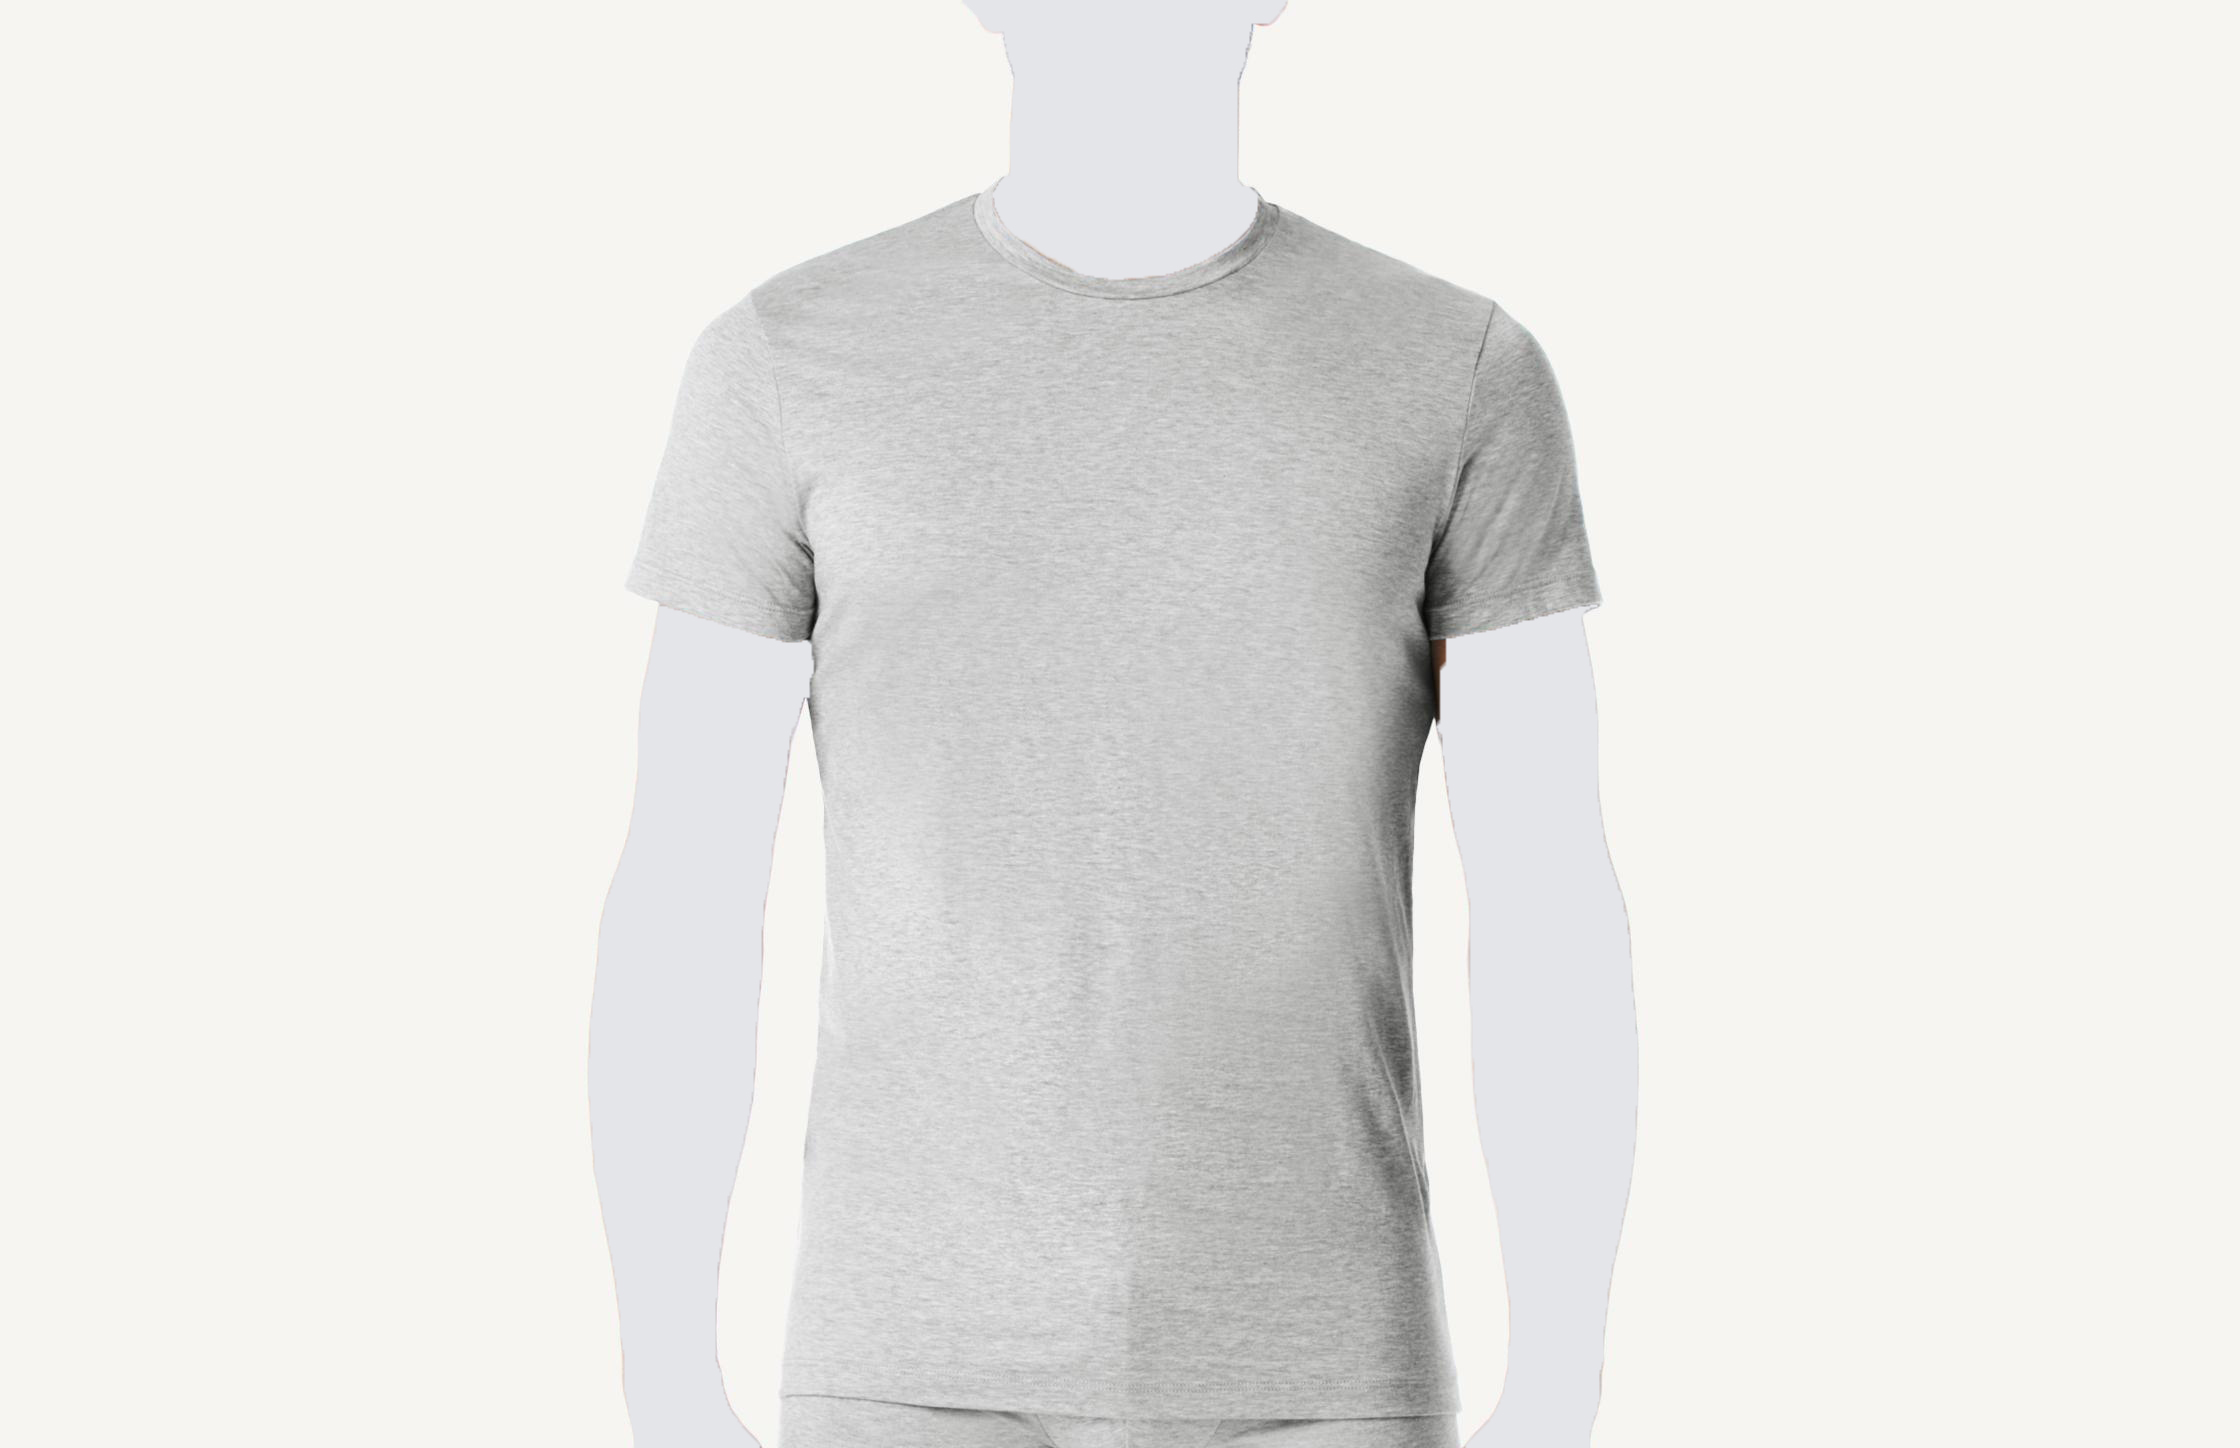teeshirt: (627, 180, 1629, 1448)
